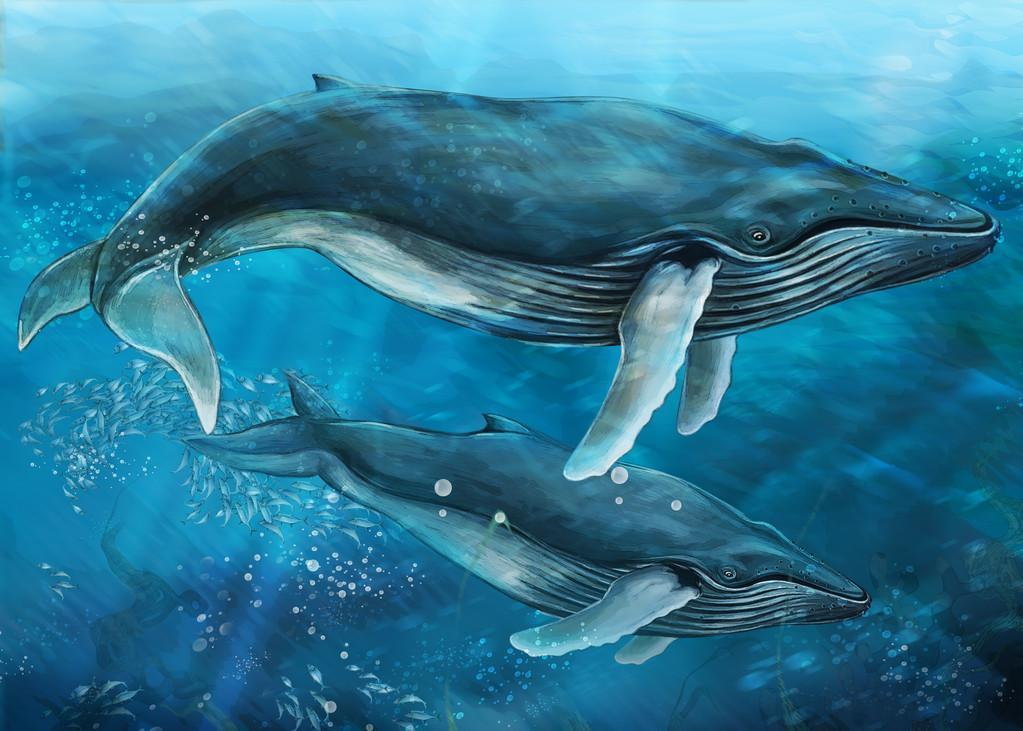fish: (3, 60, 1011, 430), (169, 370, 876, 660)
